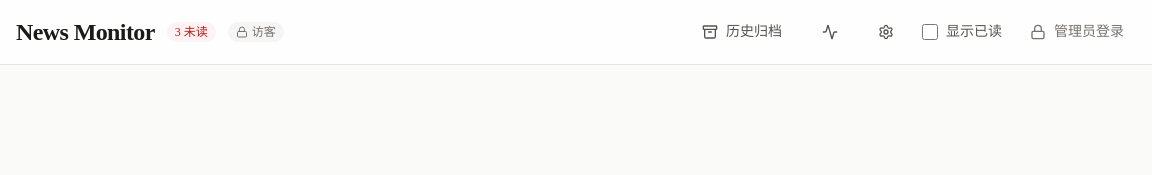
Test case: Header 管理员登录 › 登录失败时显示错误提示（此前是死代码，永远不显示）
The width and height of the screenshot is (1152, 175).
Click the button "管理员登录".
click(1077, 32)  # box [1018, 14, 1136, 50]
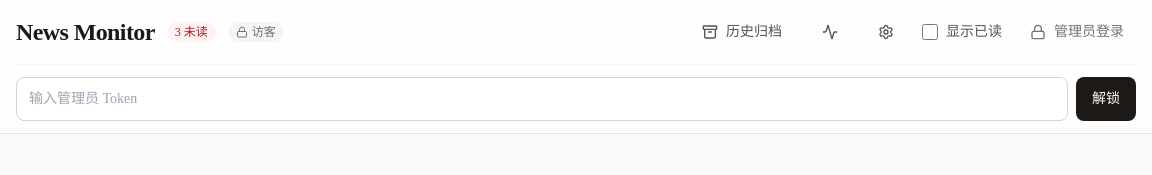
Type "wrong-token" into the password field with placeholder "输入管理员 Token".
click(542, 99); type("wrong-token")  # box [16, 77, 1068, 121]
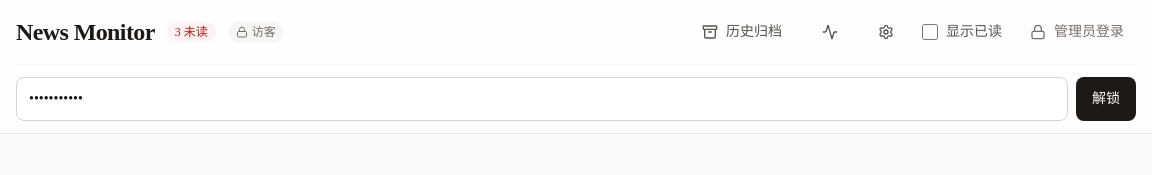
Click the button "解锁".
click(1106, 99)  # box [1076, 77, 1136, 121]
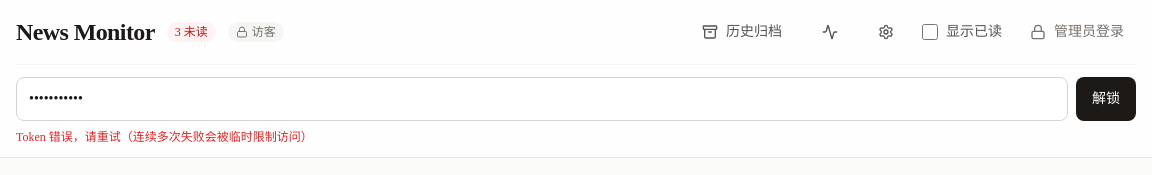
Check: the text "Token 错误，请重试（连续多次失败会被临时限制访问）" is shown, box [16, 130, 313, 144]
